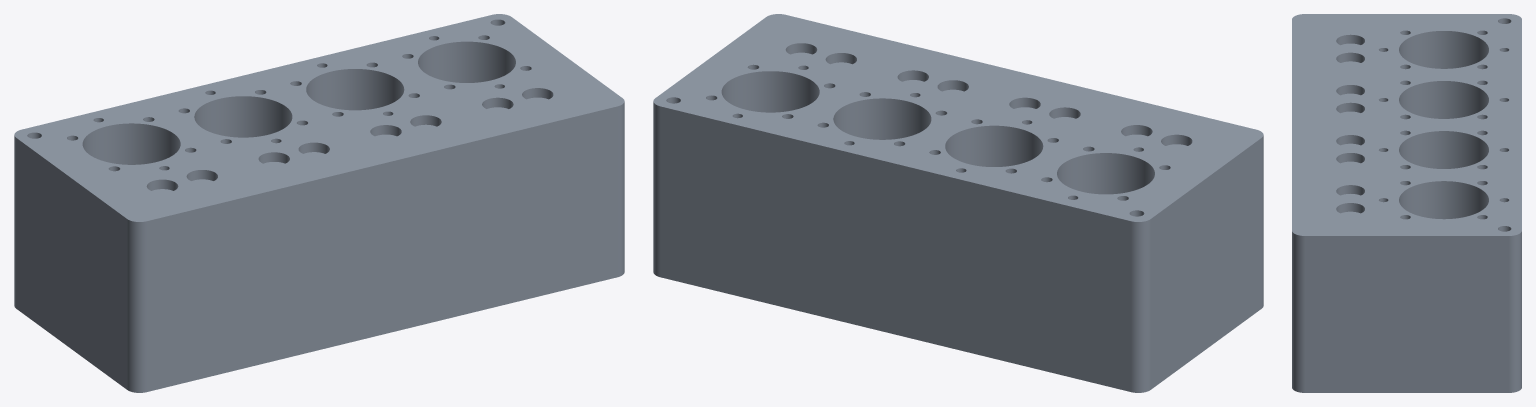
The model's file is ax_engine_block.glb.
3 renders of one model, left to right at view 1: azimuth 30°, elevation 25°; view 2: azimuth 150°, elevation 25°; view 3: azimuth 270°, elevation 25°, orthographic. The views are drawn at different scales.
Parts seen in each view (by area): view 1: cylinder block (deck); view 2: cylinder block (deck); view 3: cylinder block (deck).
Boxes of the visible parts, left/top/right/bottom form: cylinder block (deck): left=14, top=14, right=624, bottom=392; cylinder block (deck): left=653, top=14, right=1263, bottom=392; cylinder block (deck): left=1292, top=14, right=1521, bottom=392.
Size of the model in its own units: 546 by 180 by 239.
